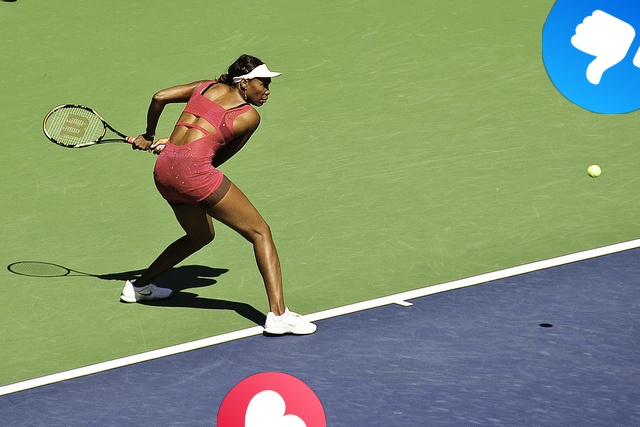like: (542, 0, 640, 114)
love: (217, 372, 326, 427)
